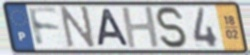4: (192, 6, 220, 50)
A: (96, 7, 131, 48)
F: (26, 6, 62, 49)
H: (119, 5, 162, 51)
N: (59, 5, 98, 51)
S: (153, 5, 191, 50)
